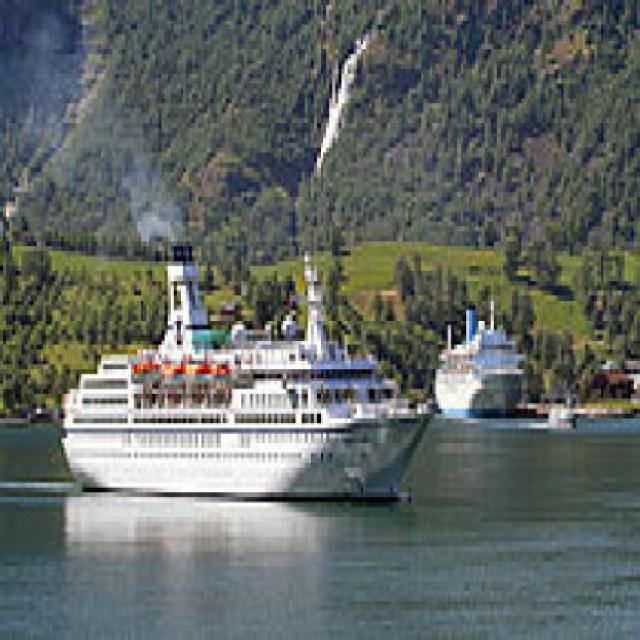cruise: (44, 242, 447, 528), (427, 296, 535, 435)
